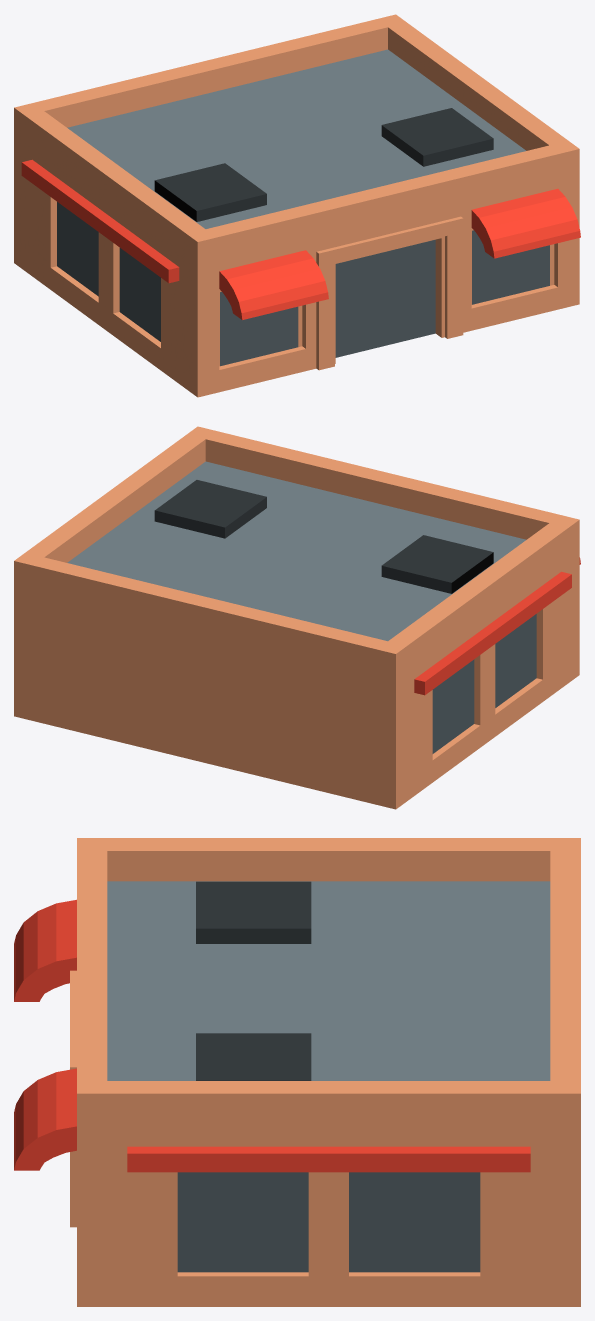
File: Shop-1.obj
3 views of the same model, one above another, from view 1: azimuth 30°, elevation 25°; view 2: azimuth 150°, elevation 25°; view 3: azimuth 270°, elevation 25° (orthographic). The views are drawn at different scales.
Visible parts, largest first — view 1: Cube; view 2: Cube; view 3: Cube.
Boxes of the visible parts, left/top/right/bottom form: Cube: left=14, top=14, right=580, bottom=397; Cube: left=14, top=426, right=580, bottom=809; Cube: left=14, top=838, right=580, bottom=1306.
Bounding box in the file's own units: 19 × 7 × 16.87.
